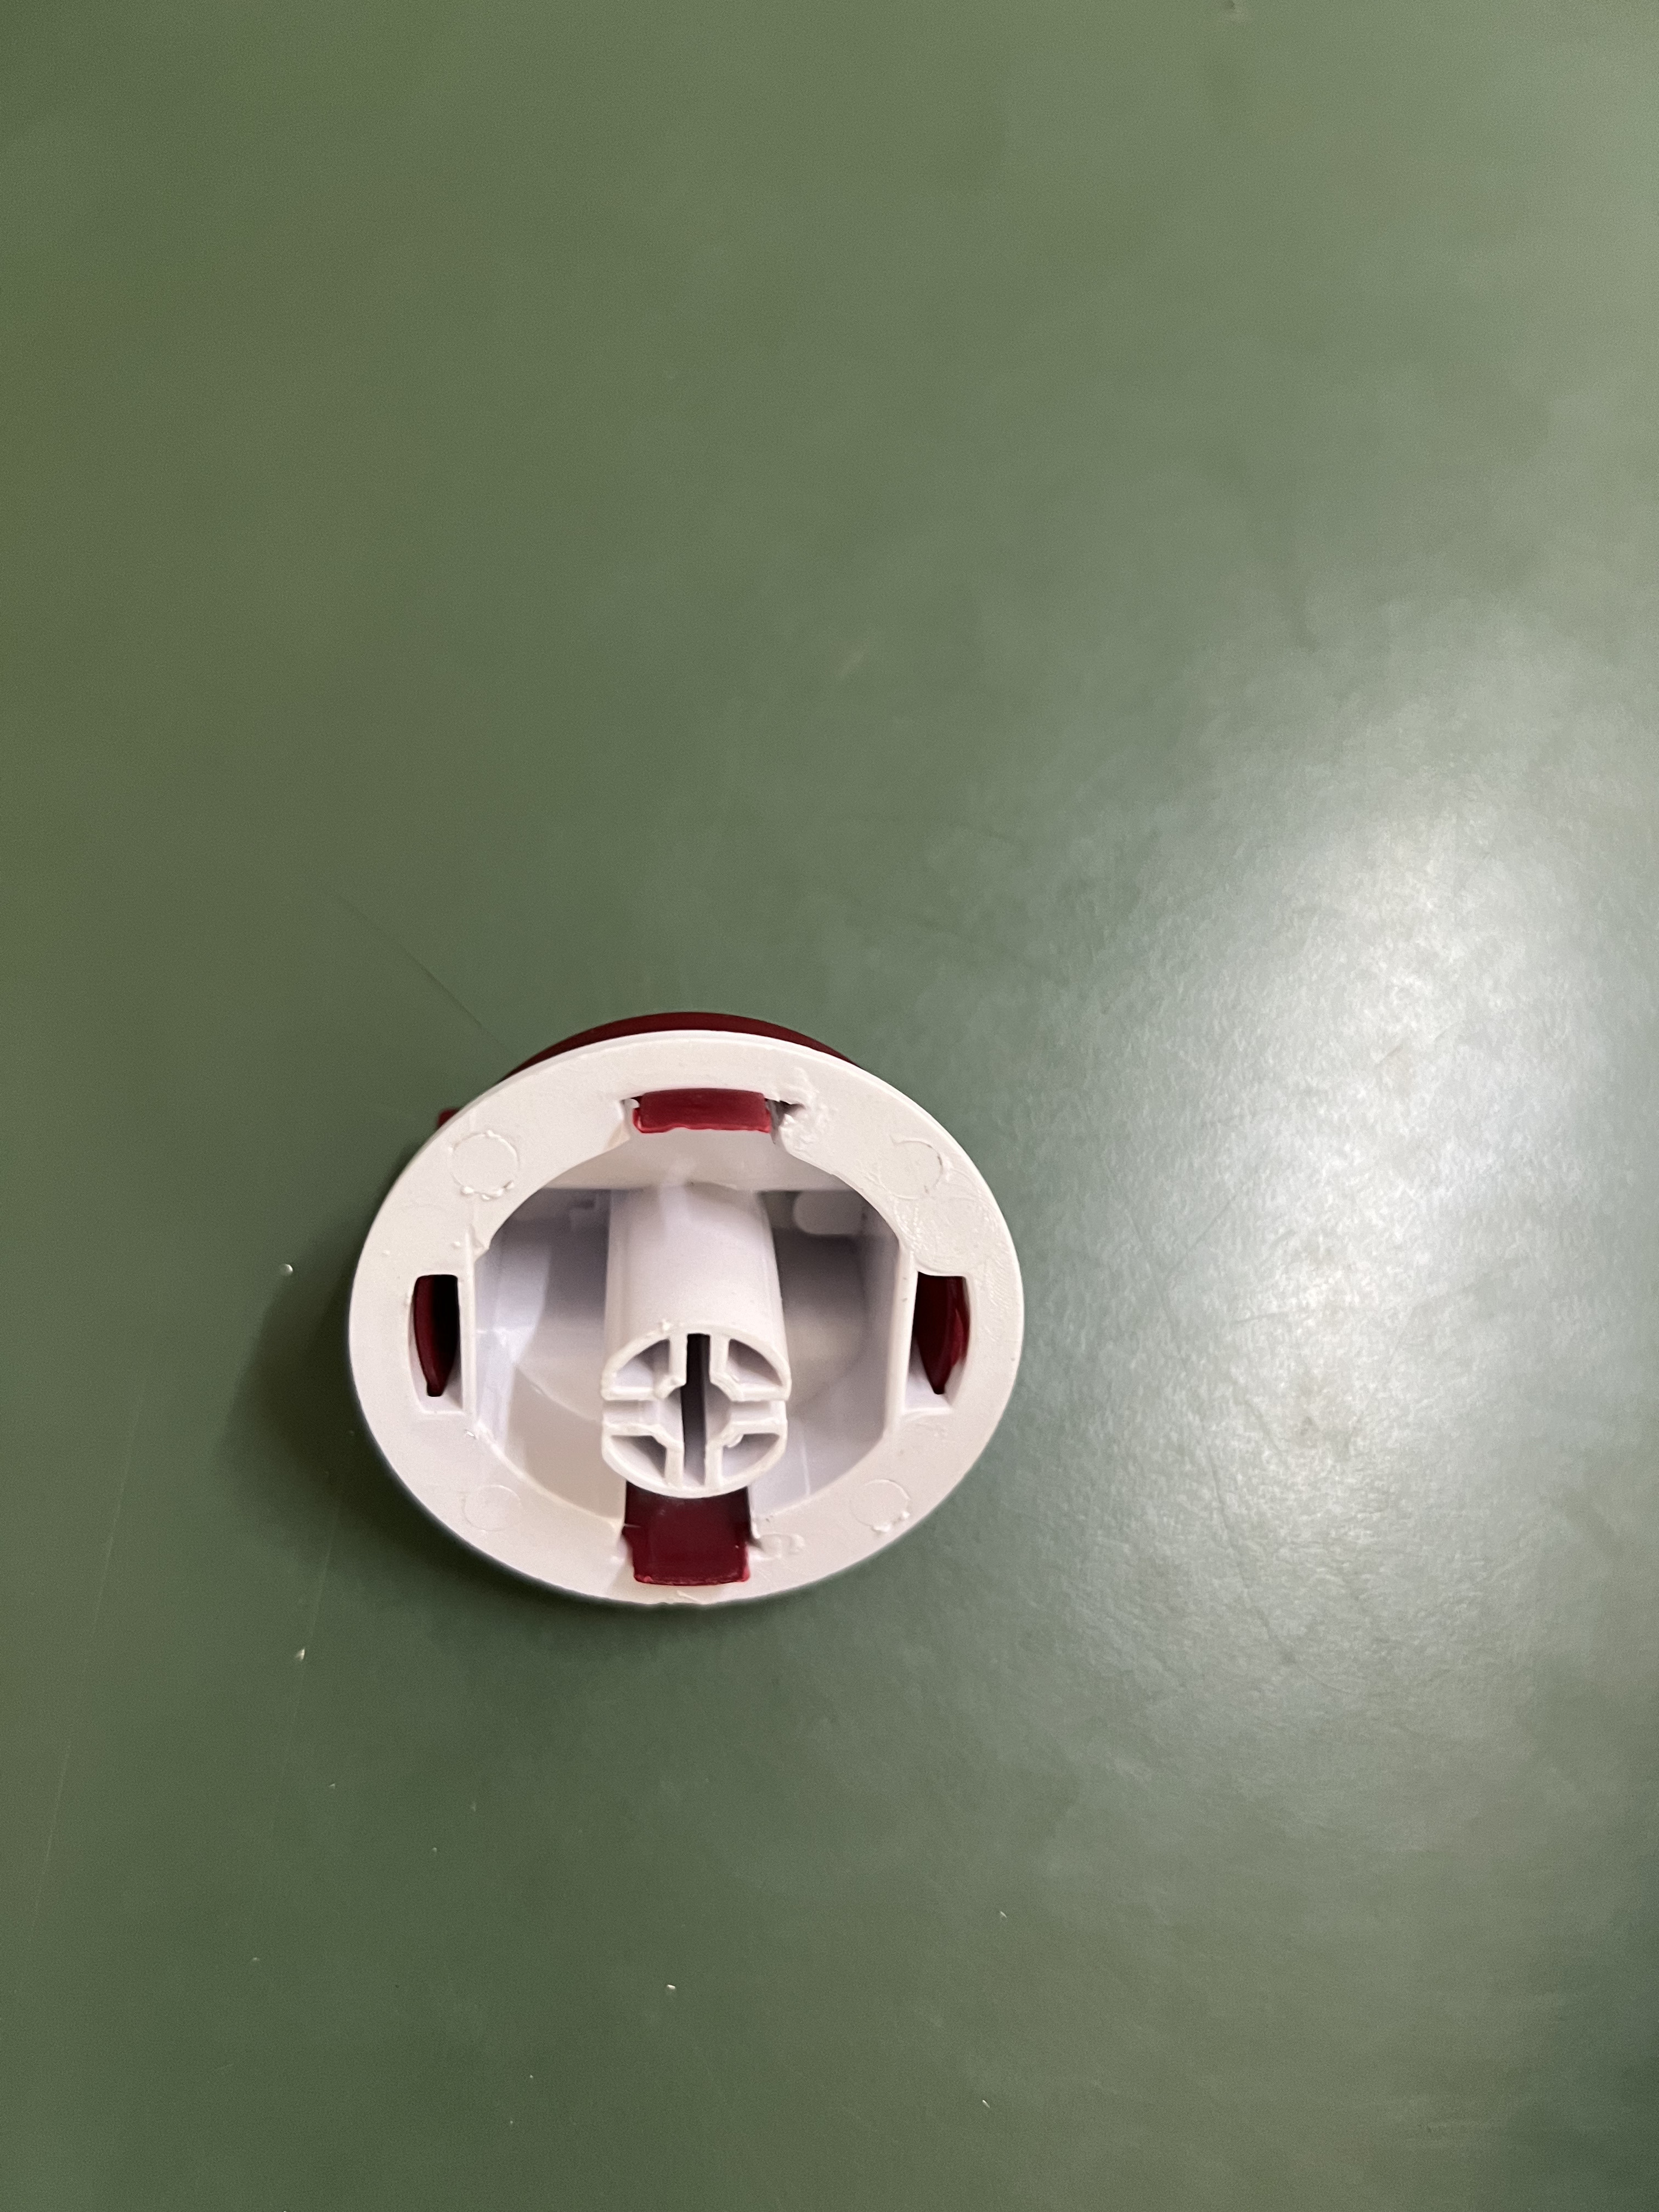regulator: (349, 1000, 1039, 1613)
